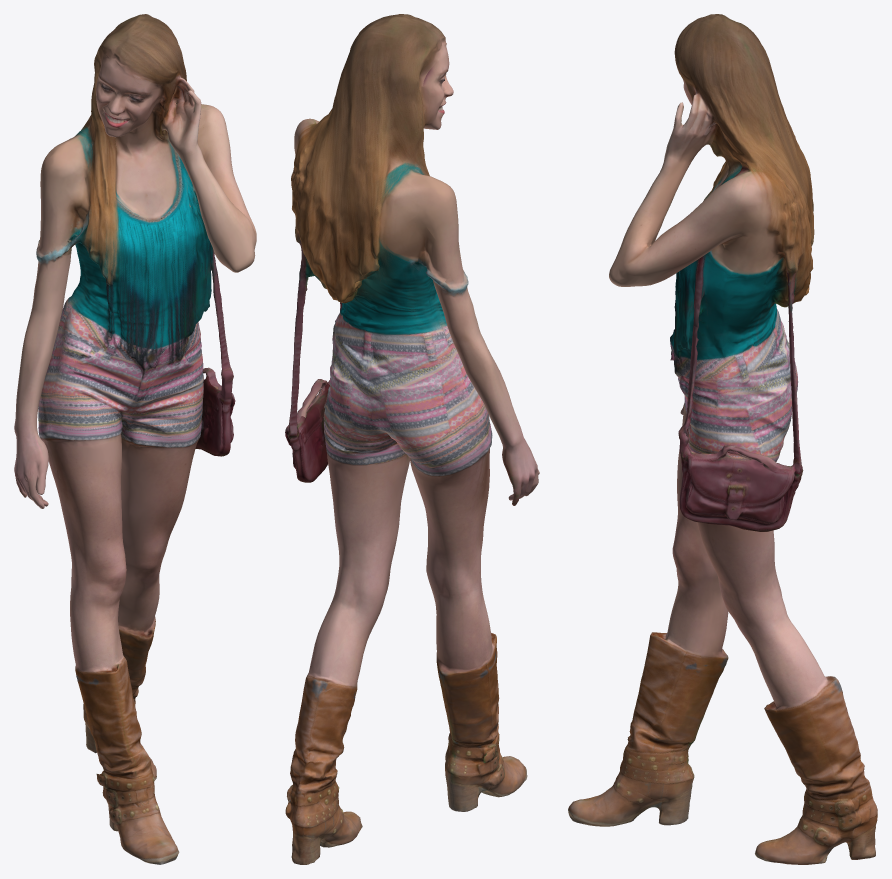
3 views of the same model, side by side, from view 1: azimuth 30°, elevation 25°; view 2: azimuth 150°, elevation 25°; view 3: azimuth 270°, elevation 25° (orthographic). The views are drawn at different scales.
Parts seen in each view (by area): view 1: Casual girl in Boots Colorfull Shorts and green top Walking.; view 2: Casual girl in Boots Colorfull Shorts and green top Walking.; view 3: Casual girl in Boots Colorfull Shorts and green top Walking..
Boxes of the visible parts, x1,y1,x2,y2 form: Casual girl in Boots Colorfull Shorts and green top Walking.: [14, 14, 256, 864]; Casual girl in Boots Colorfull Shorts and green top Walking.: [285, 14, 539, 864]; Casual girl in Boots Colorfull Shorts and green top Walking.: [568, 14, 877, 864].
Size of the model in its own units: 49.35 by 170 by 57.71.
Materials: 1 (1 with a texture image).
